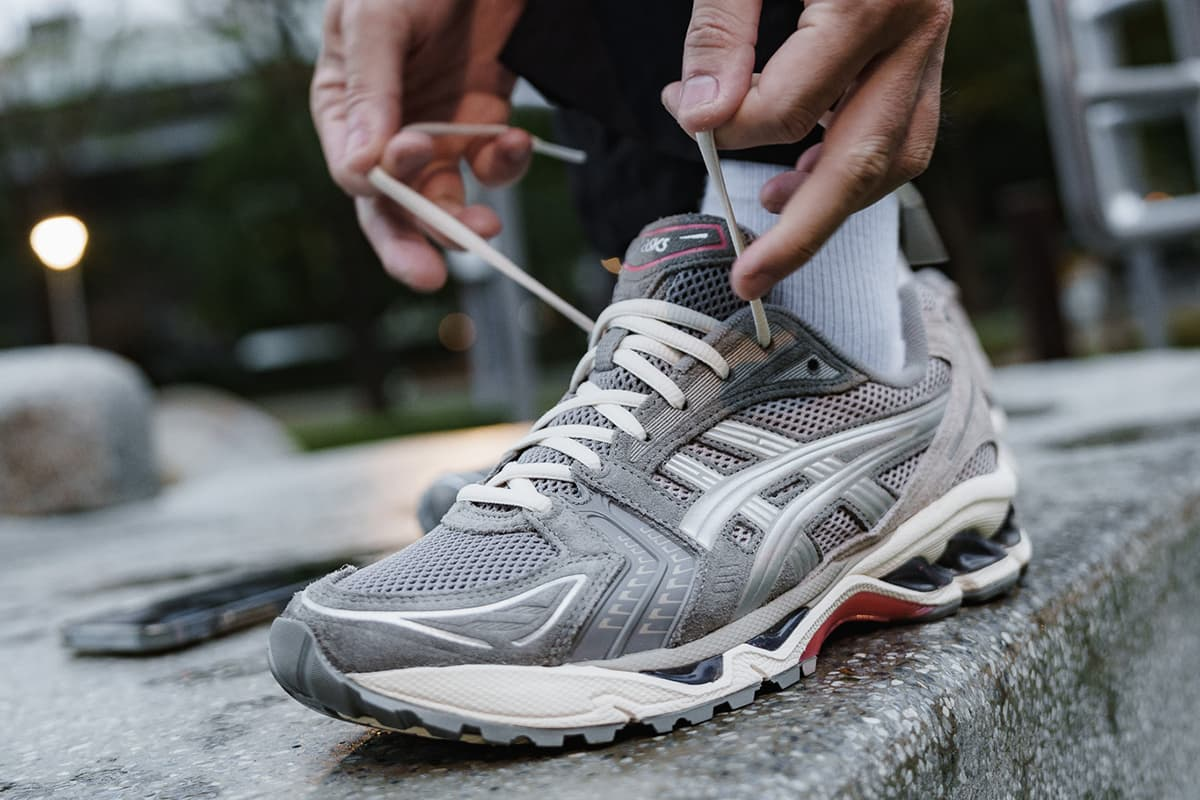man_run_shoe: (177, 95, 1051, 763)
